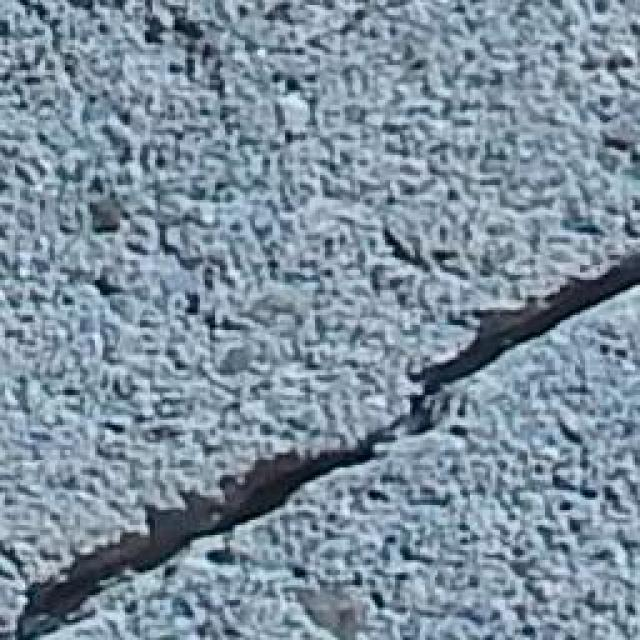concrete-crack: (15, 249, 640, 640)
